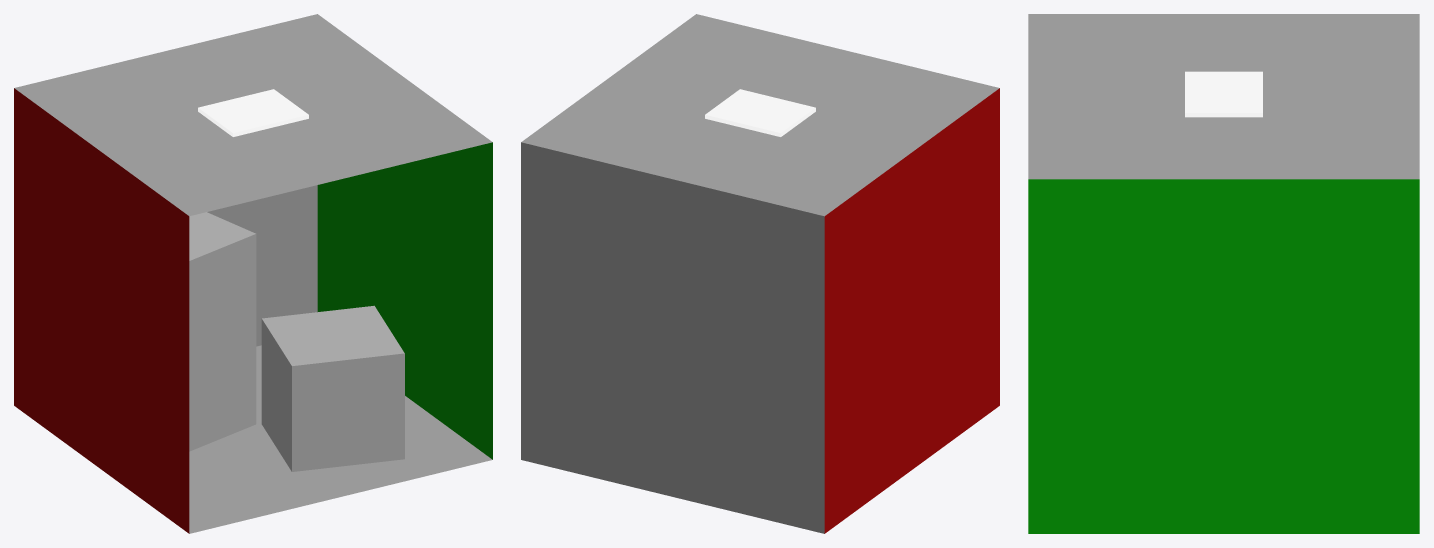
Rendered from cornell_box.glb.
The picture shows the model from 3 angles, left to right: view 1: azimuth 30°, elevation 25°; view 2: azimuth 150°, elevation 25°; view 3: azimuth 270°, elevation 25°; orthographic projection. The views are drawn at different scales.
Visible parts, largest first — view 1: Cube; view 2: Cube; view 3: Cube.
Part boxes in pixels (left/top/right/bottom): Cube: left=14, top=14, right=492, bottom=533; Cube: left=521, top=14, right=999, bottom=533; Cube: left=1028, top=14, right=1419, bottom=533.
Bounding box in the file's own units: 6 × 6.07 × 6.
